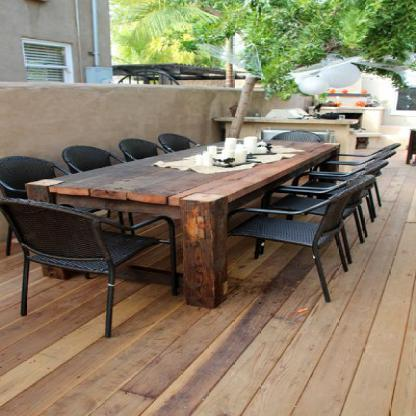table: (17, 131, 345, 311)
